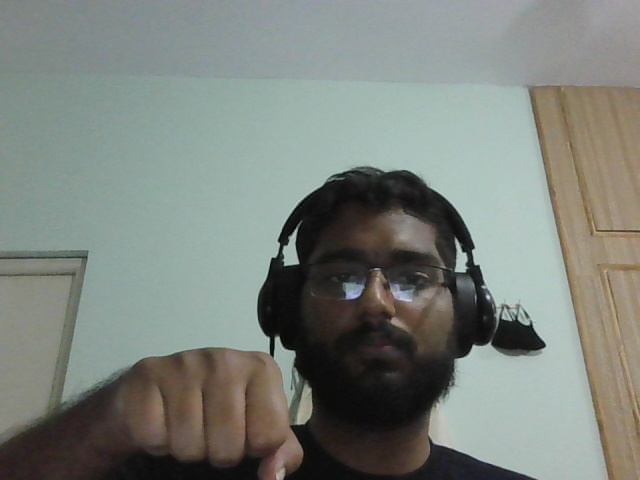Yes: (124, 330, 305, 480)
